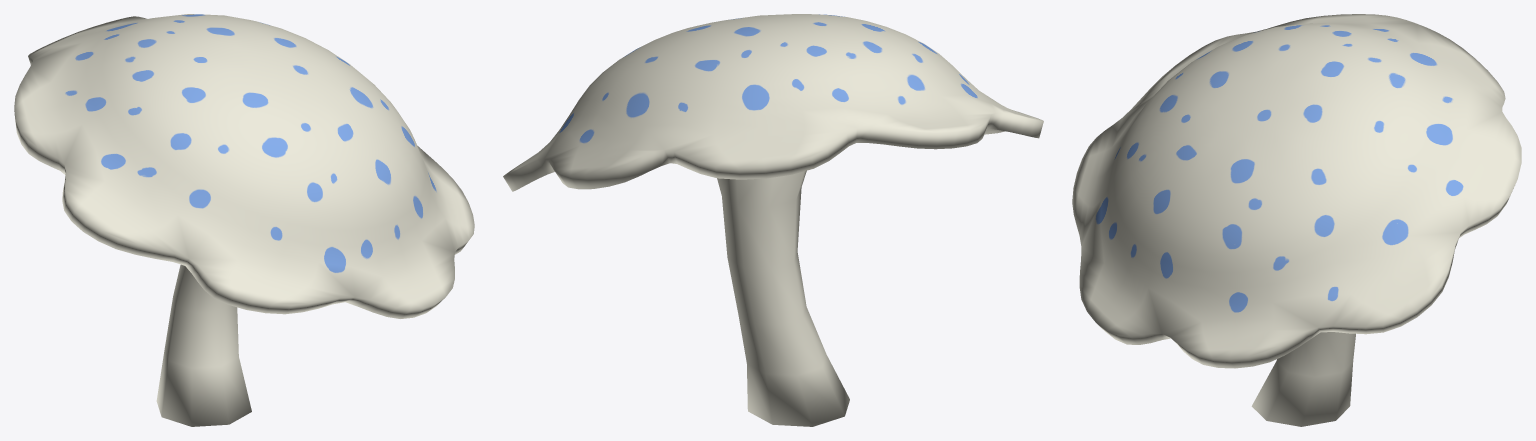
Rendered from B&W Mushroom.fbx.
3 views of the same model, side by side, from view 1: azimuth 30°, elevation 25°; view 2: azimuth 150°, elevation 25°; view 3: azimuth 270°, elevation 25° (orthographic). The views are drawn at different scales.
Parts seen in each view (by area): view 1: B&W Mushroom.001, 圓柱體.003; view 2: B&W Mushroom.001, 圓柱體.003; view 3: B&W Mushroom.001, 圓柱體.003.
Part boxes in pixels (x1=…): B&W Mushroom.001: x1=14, y1=14, x2=474, y2=318; 圓柱體.003: x1=156, y1=264, x2=251, y2=426; B&W Mushroom.001: x1=503, y1=14, x2=1043, y2=191; 圓柱體.003: x1=717, y1=170, x2=849, y2=426; B&W Mushroom.001: x1=1072, y1=14, x2=1521, y2=368; 圓柱體.003: x1=1251, y1=332, x2=1355, y2=426.
Size of the model in its own units: 110 by 90.26 by 103.
